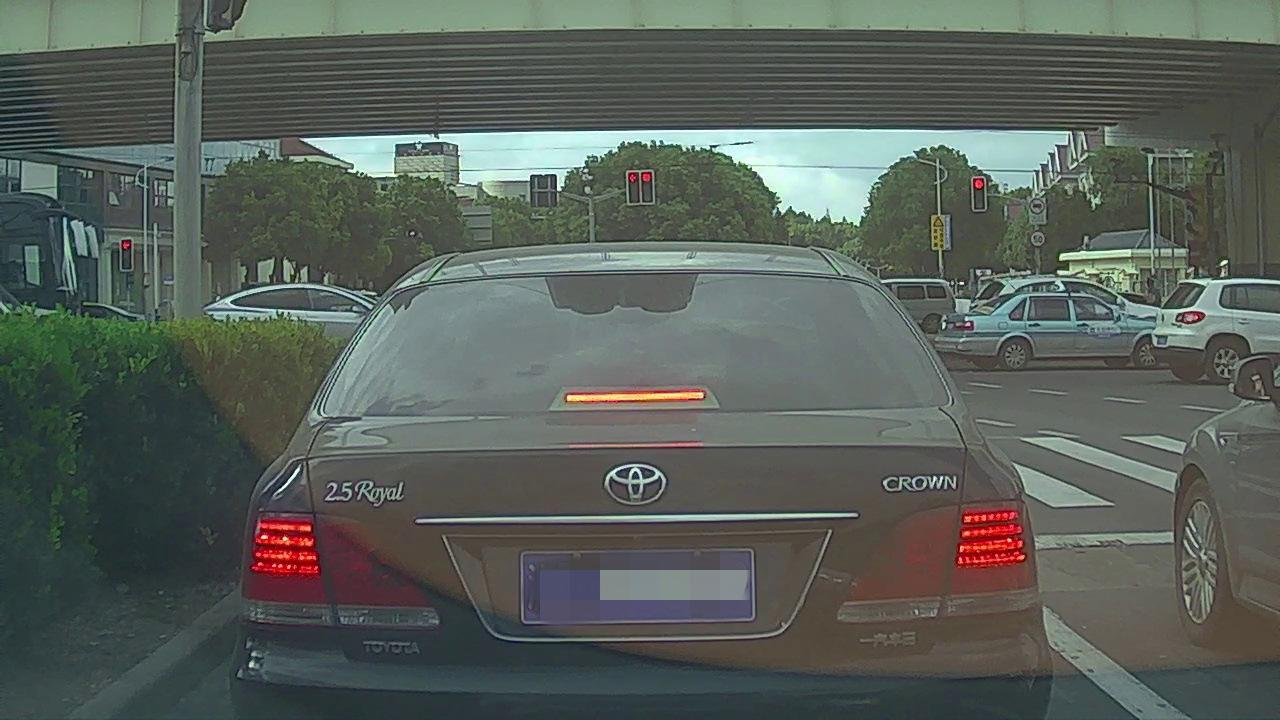traffic_light: (640, 171, 653, 203), (972, 178, 985, 210), (627, 172, 639, 203), (121, 239, 132, 270)
